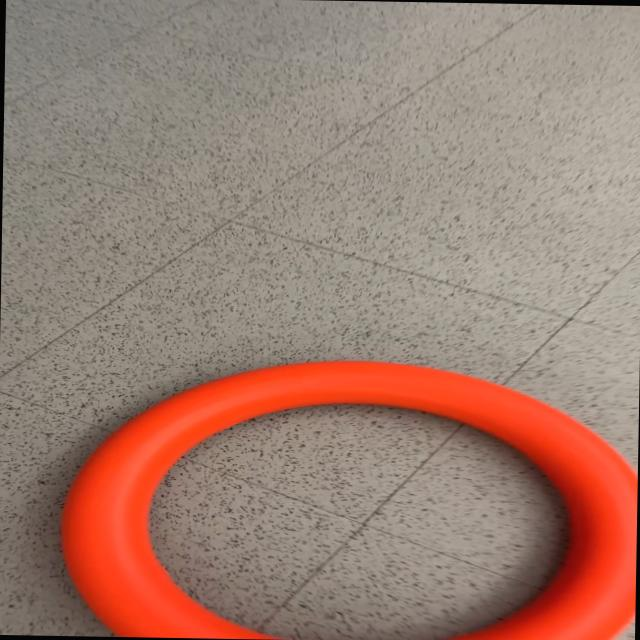note: (56, 353, 637, 640)
